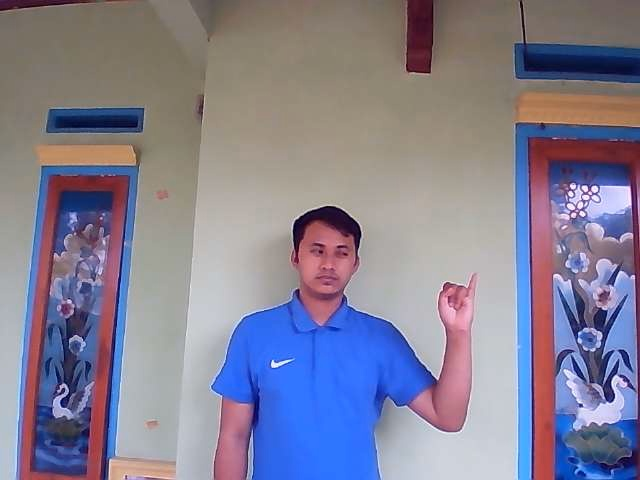I: (436, 272, 479, 333)
